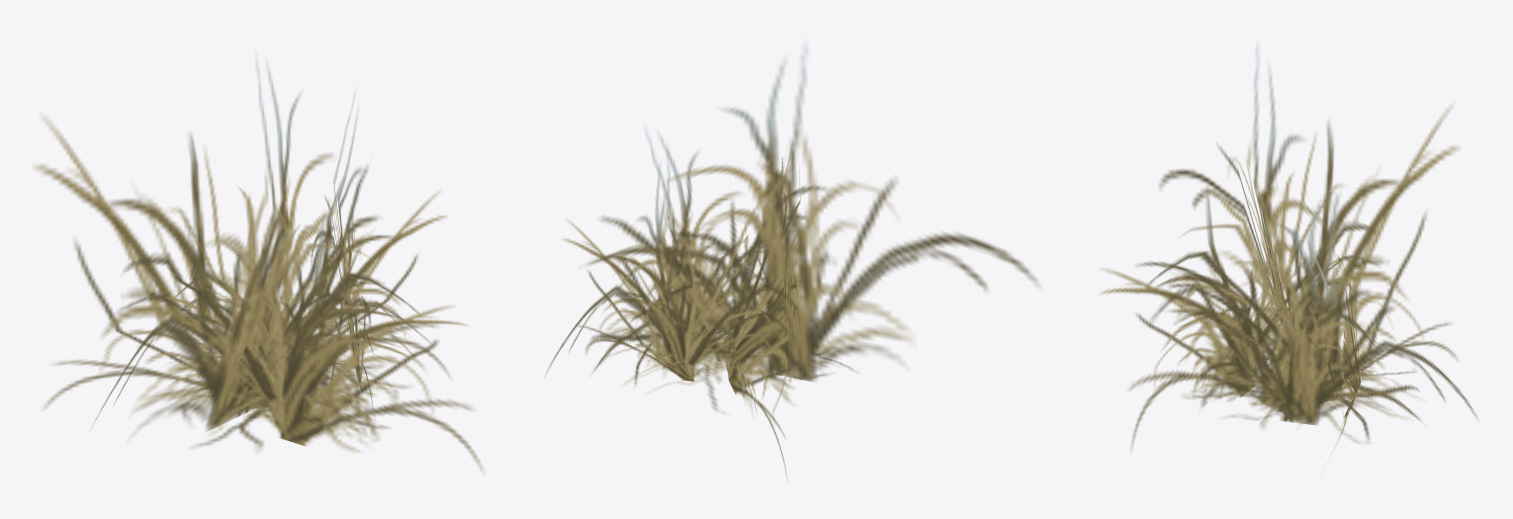
File: ichu_03_nieve.glb
3 views of the same model, side by side, from view 1: azimuth 30°, elevation 25°; view 2: azimuth 150°, elevation 25°; view 3: azimuth 270°, elevation 25° (orthographic). The views are drawn at different scales.
Visible parts, largest first — view 1: Ichu; view 2: Ichu; view 3: Ichu.
Part boxes in pixels (x1,y1,x2,y2): Ichu: (33, 54, 482, 469); Ichu: (546, 42, 1038, 480); Ichu: (1100, 43, 1476, 450).
Size of the model in its own units: 0.3661 by 0.34 by 0.3096.
1 material, 1 textured.
